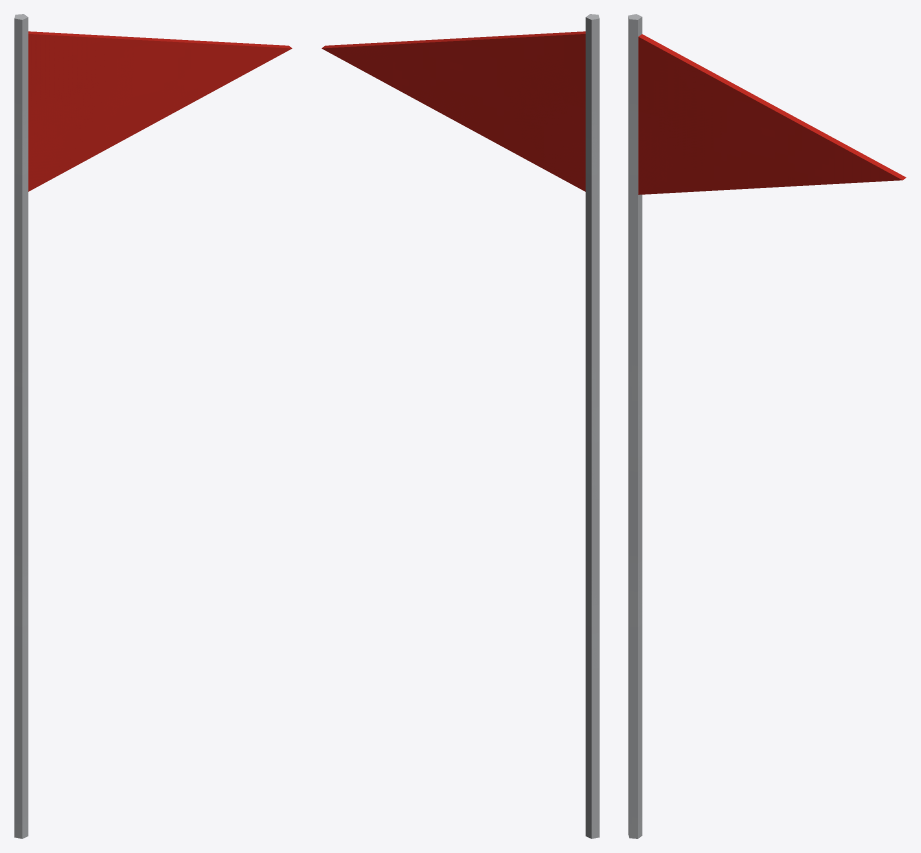
Rendered from bandeira_marcacao.glb.
The picture shows the model from 3 angles, left to right: view 1: azimuth 30°, elevation 25°; view 2: azimuth 150°, elevation 25°; view 3: azimuth 330°, elevation 25°; orthographic projection.
Parts seen in each view (by area): view 1: Inteiro, Peca_01, Peca_00; view 2: Inteiro, Peca_01, Peca_00; view 3: Inteiro, Peca_01, Peca_00.
Boxes of the visible parts, x1,y1,x2,y2 form: Inteiro: [14, 14, 292, 838]; Peca_01: [28, 32, 280, 191]; Peca_00: [22, 14, 28, 836]; Inteiro: [321, 14, 599, 838]; Peca_01: [333, 41, 585, 191]; Peca_00: [591, 16, 599, 838]; Inteiro: [628, 14, 906, 838]; Peca_01: [638, 35, 899, 191]; Peca_00: [635, 14, 642, 838].
Bounding box in the file's own units: 0.512 × 1.45 × 0.0228.
1 material, 1 textured.
